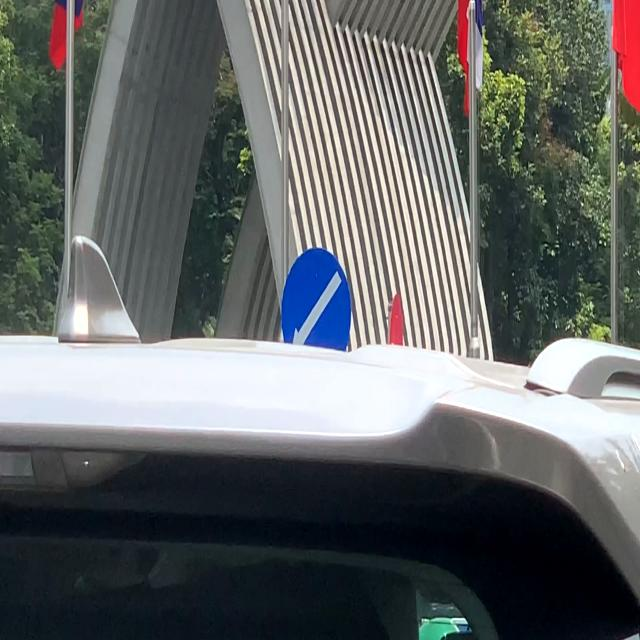R.302b: (281, 246, 351, 376)
